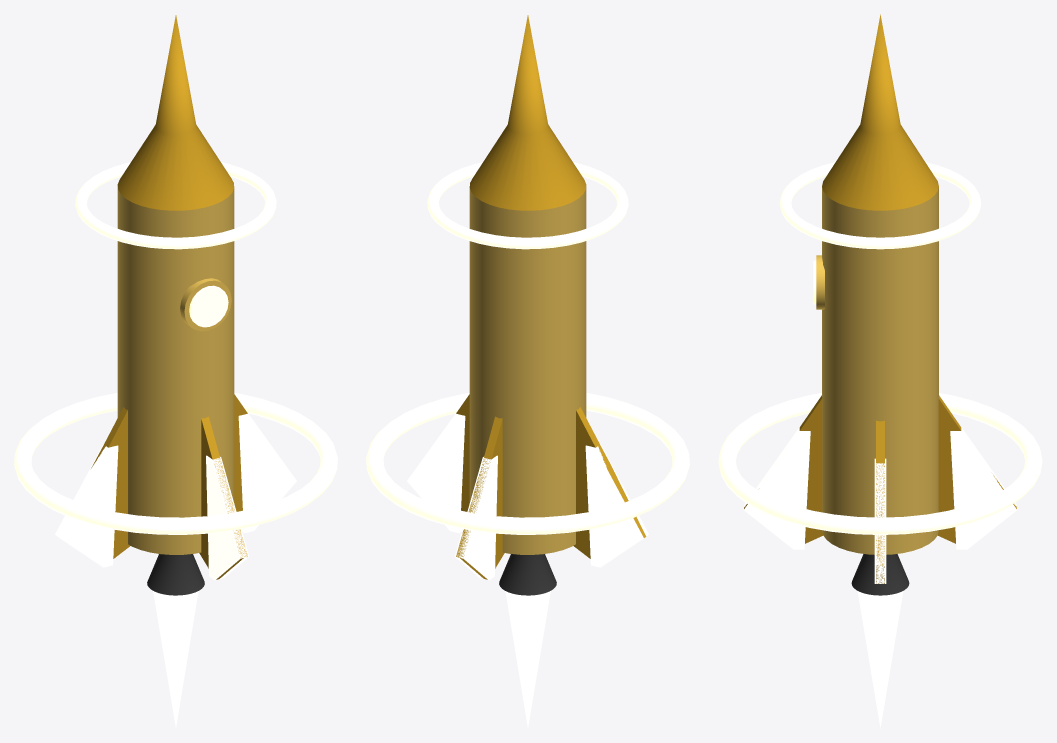
Rendered from Rocket_37_SolarCrown.fbx.
3 renders of one model, left to right at view 1: azimuth 30°, elevation 25°; view 2: azimuth 150°, elevation 25°; view 3: azimuth 270°, elevation 25°, orthographic.
Visible parts, largest first — view 1: R37_Body, R37_Halo_1, R37_Nose, R37_Halo_2, R37_FinGlow_2, R37_FinGlow_4, R37_Flame_1, R37_FinGlow_3, R37_Nozzle_1, R37_Fin_2, R37_Fin_3, R37_Window_1 (+2 smaller); view 2: R37_Body, R37_Halo_1, R37_Nose, R37_Halo_2, R37_FinGlow_2, R37_FinGlow_4, R37_Flame_1, R37_FinGlow_1, R37_Fin_2, R37_Nozzle_1, R37_Fin_1, R37_Fin_4; view 3: R37_Body, R37_Halo_1, R37_Nose, R37_Halo_2, R37_FinGlow_3, R37_FinGlow_1, R37_Flame_1, R37_Fin_1, R37_Fin_3, R37_Nozzle_1, R37_FinGlow_4, R37_Fin_4.
Part boxes in pixels (x1,y1,x2,y2): R37_Body: (117, 186, 234, 554); R37_Halo_1: (14, 393, 337, 534); R37_Nose: (117, 15, 234, 210); R37_Halo_2: (75, 162, 276, 249); R37_FinGlow_2: (55, 444, 118, 567); R37_FinGlow_4: (238, 413, 296, 533); R37_Flame_1: (153, 591, 198, 727); R37_FinGlow_3: (206, 455, 248, 580); R37_Nozzle_1: (147, 554, 204, 595); R37_Fin_2: (91, 407, 130, 558); R37_Fin_3: (199, 416, 247, 579); R37_Window_1: (189, 285, 228, 327); R37_Body: (469, 186, 586, 554); R37_Halo_1: (366, 393, 689, 534); R37_Nose: (469, 15, 586, 210); R37_Halo_2: (427, 162, 628, 249); R37_FinGlow_2: (585, 444, 648, 567); R37_FinGlow_4: (407, 413, 465, 533); R37_Flame_1: (505, 591, 550, 727); R37_FinGlow_1: (455, 455, 497, 580); R37_Fin_2: (573, 407, 646, 558); R37_Nozzle_1: (499, 554, 556, 595); R37_Fin_1: (456, 416, 504, 579); R37_Fin_4: (456, 394, 469, 511); R37_Body: (822, 187, 938, 554); R37_Halo_1: (718, 393, 1042, 534); R37_Nose: (822, 14, 938, 210); R37_Halo_2: (779, 162, 981, 249); R37_FinGlow_3: (744, 427, 810, 549); R37_FinGlow_1: (950, 427, 1016, 549); R37_Flame_1: (857, 591, 903, 728); R37_Fin_1: (937, 395, 1016, 543); R37_Fin_3: (744, 395, 823, 543); R37_Nozzle_1: (851, 554, 909, 595); R37_FinGlow_4: (874, 458, 886, 583); R37_Fin_4: (876, 420, 884, 583).
Size of the model in its own units: 4.44 by 10.8 by 4.44.
